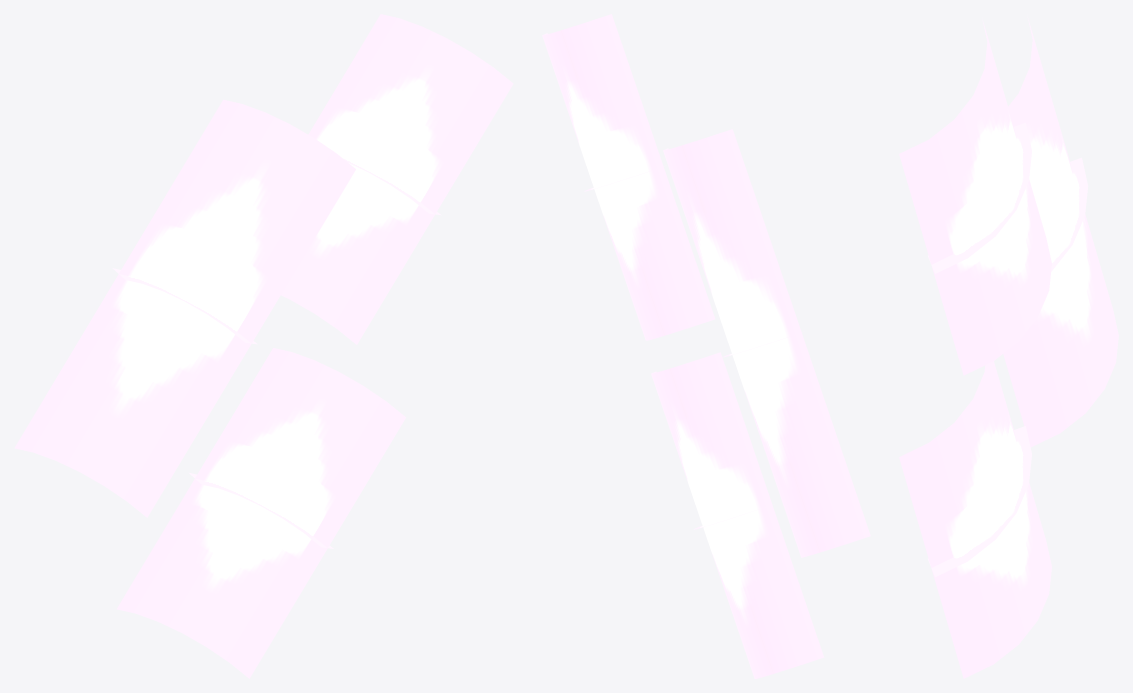
Rendered from sfx_glorb_claw_attack2.glb.
3 views of the same model, side by side, from view 1: azimuth 30°, elevation 25°; view 2: azimuth 150°, elevation 25°; view 3: azimuth 270°, elevation 25° (orthographic). The views are drawn at different scales.
Parts seen in each view (by area): view 1: sfx_glorb_claw_attack2_obj0, sfx_glorb_claw_attack2_obj1, sfx_glorb_claw_attack2_obj2; view 2: sfx_glorb_claw_attack2_obj0, sfx_glorb_claw_attack2_obj2, sfx_glorb_claw_attack2_obj1; view 3: sfx_glorb_claw_attack2_obj2, sfx_glorb_claw_attack2_obj1, sfx_glorb_claw_attack2_obj0.
Boxes of the visible parts, x1,y1,x2,y2 form: sfx_glorb_claw_attack2_obj0: (14,99,355,517); sfx_glorb_claw_attack2_obj1: (117,348,405,678); sfx_glorb_claw_attack2_obj2: (281,14,513,344); sfx_glorb_claw_attack2_obj0: (663,129,870,557); sfx_glorb_claw_attack2_obj2: (542,14,715,340); sfx_glorb_claw_attack2_obj1: (651,352,824,678); sfx_glorb_claw_attack2_obj2: (899,19,1051,375); sfx_glorb_claw_attack2_obj1: (899,361,1051,678); sfx_glorb_claw_attack2_obj0: (1003,17,1118,447).
Size of the model in its own units: 0.2227 by 0.3253 by 0.0872.
1 material, 1 textured.
